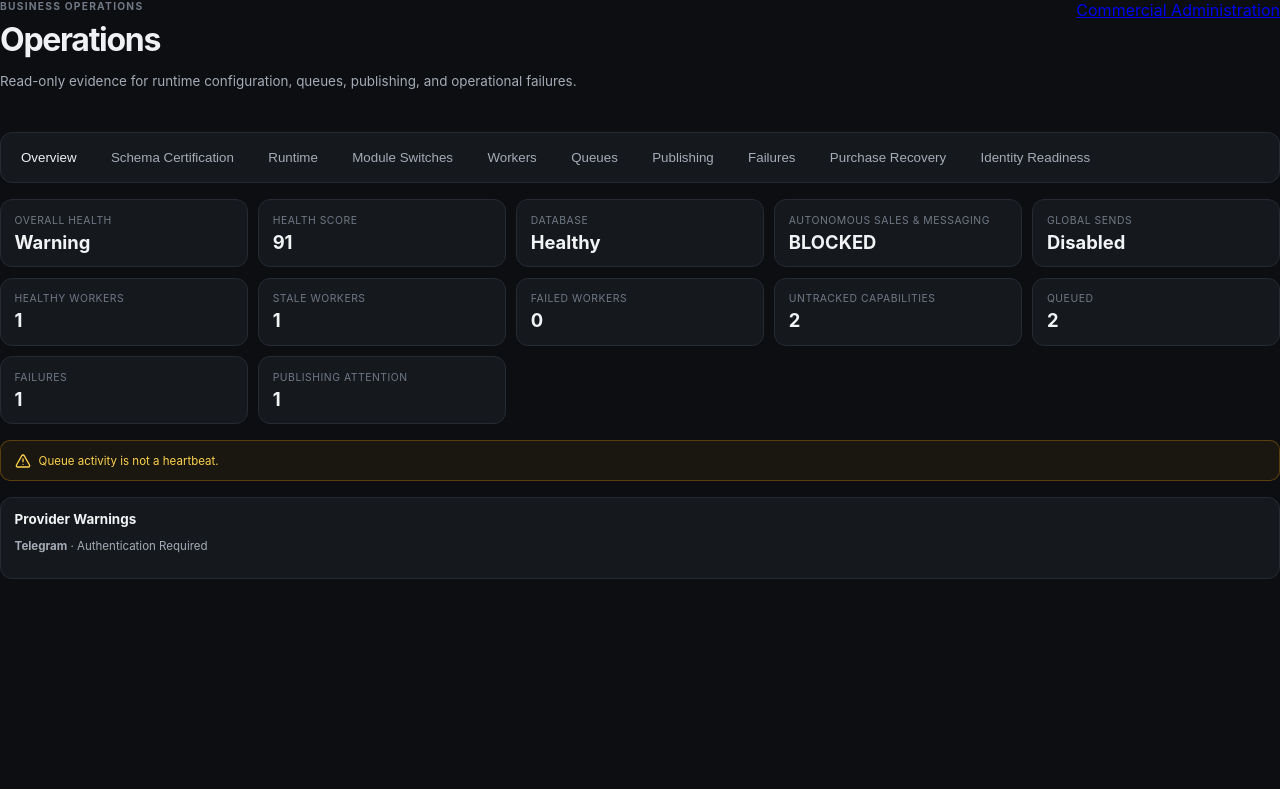
Test: BusinessOperationsPage › renders healthy, stale, failed, and untracked heartbeat states
The image size is (1280, 789).
Expected: the text "Overall Health" is shown, [15, 214, 112, 227]
Click the tab "Workers" at (512, 157), box [473, 138, 551, 176]
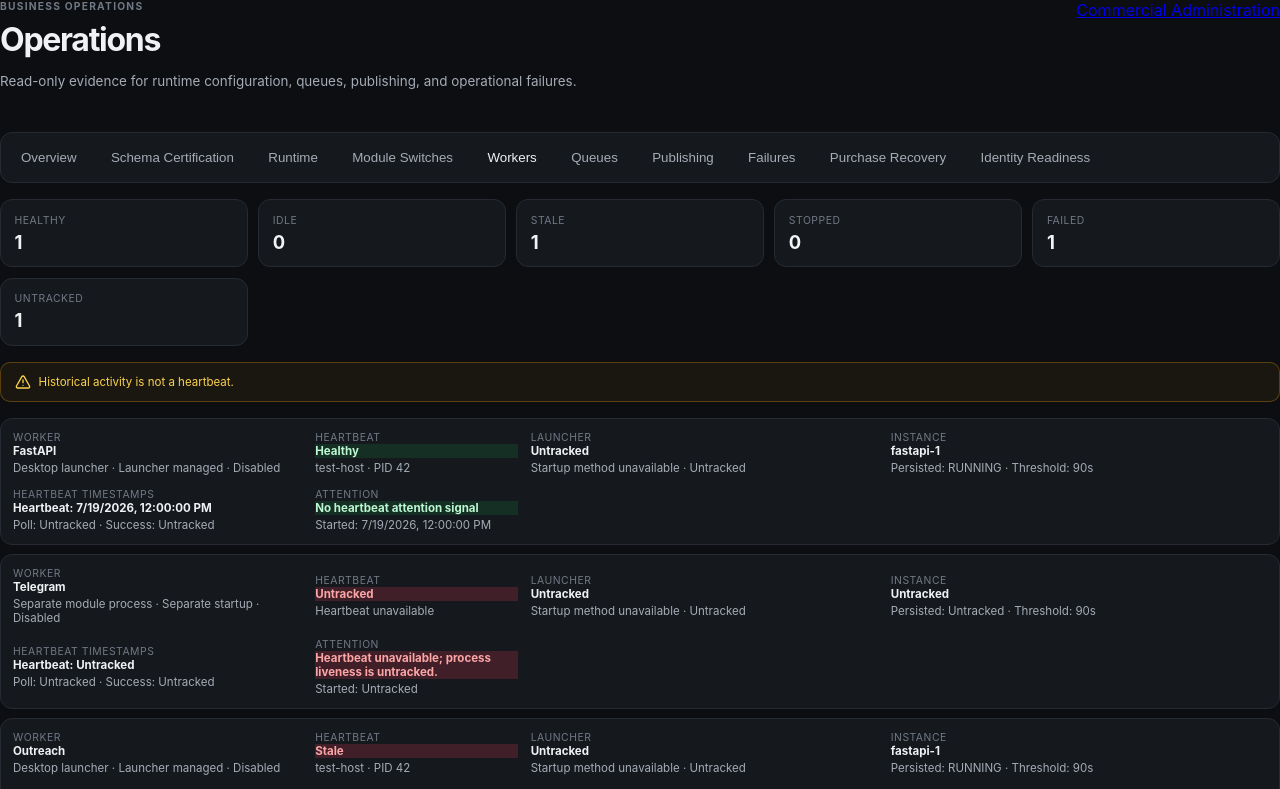
Expected: the text "Heartbeat unavailable" is shown, [315, 604, 434, 618]
Expected: the text "Stale" next to "Stopped" is shown, [531, 214, 565, 227]
Expected: the text "Failed" is shown, [1047, 214, 1085, 227]
